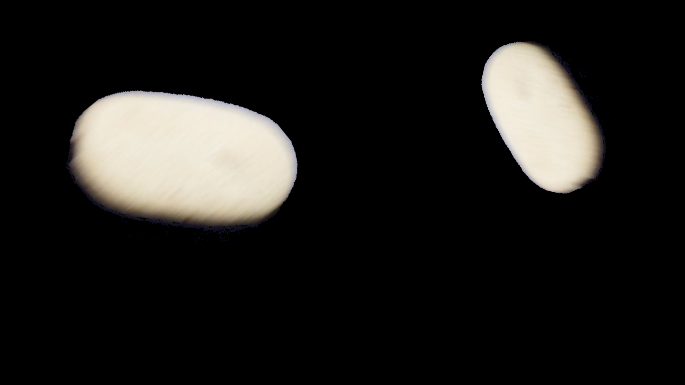test: (41, 20, 322, 302), (458, 29, 629, 203)
